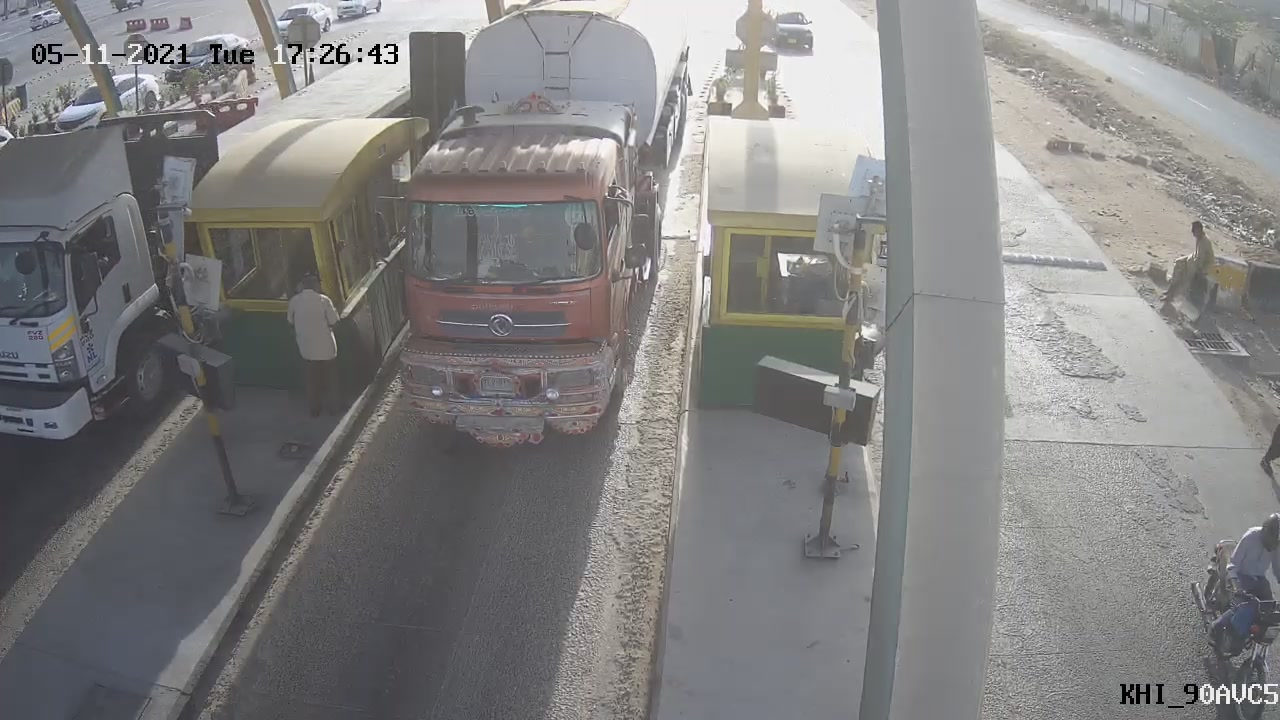F6: (355, 1, 708, 470)
